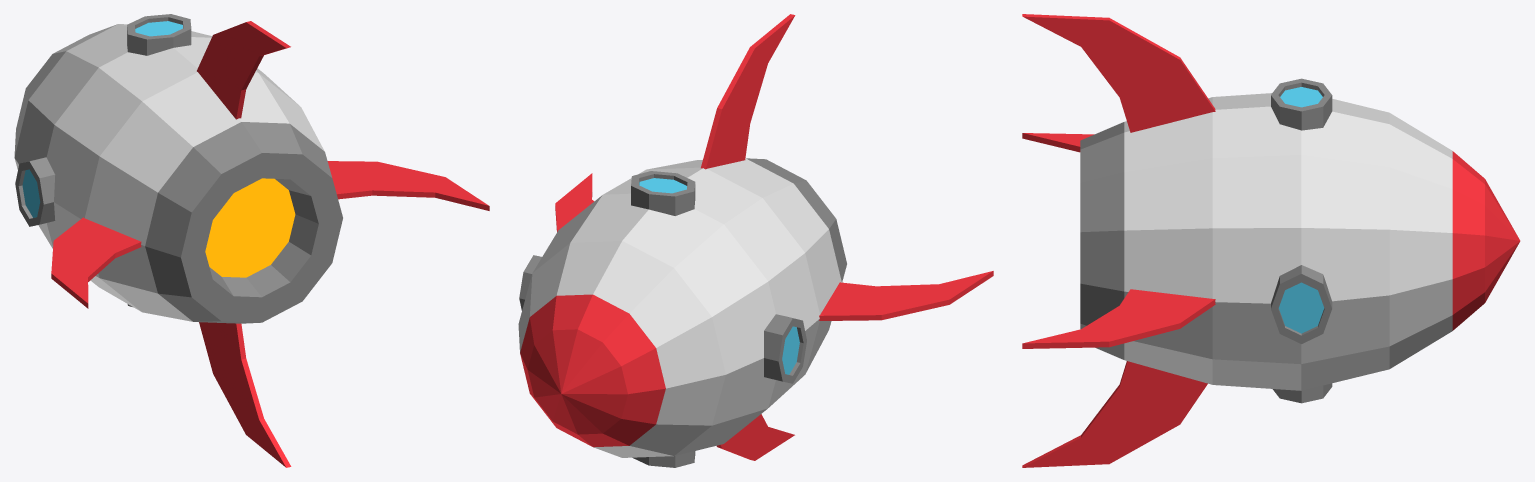
Rendered from Low_Poly_Spaceship_3.fbx.
The picture shows the model from 3 angles, left to right: view 1: azimuth 30°, elevation 25°; view 2: azimuth 150°, elevation 25°; view 3: azimuth 270°, elevation 25°; orthographic projection. The views are drawn at different scales.
Parts seen in each view (by area): view 1: Low_Poly_Spaceship_005.001; view 2: Low_Poly_Spaceship_005.001; view 3: Low_Poly_Spaceship_005.001.
Part boxes in pixels (bbox=[...]): Low_Poly_Spaceship_005.001: bbox=[14, 14, 489, 467]; Low_Poly_Spaceship_005.001: bbox=[518, 14, 993, 467]; Low_Poly_Spaceship_005.001: bbox=[1022, 14, 1520, 467].
Bounding box in the file's own units: 100 × 100 × 100.
